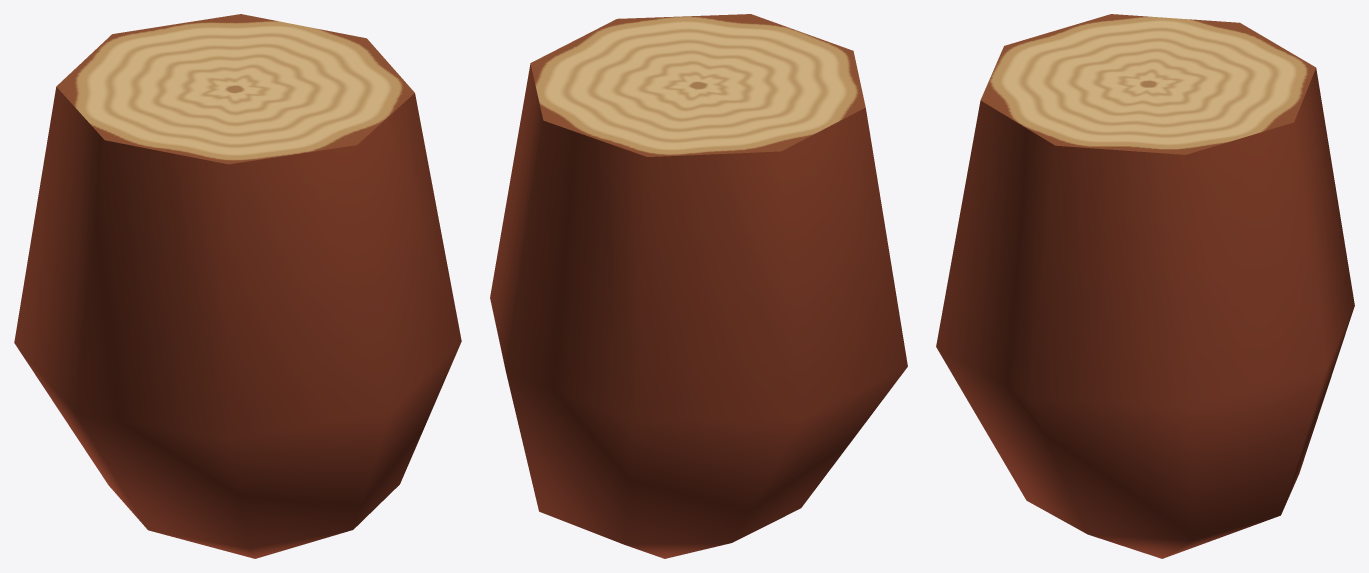
File: tree_2_e_stump.glb
3 renders of one model, left to right at view 1: azimuth 30°, elevation 25°; view 2: azimuth 150°, elevation 25°; view 3: azimuth 270°, elevation 25°, orthographic. The views are drawn at different scales.
Visible parts, largest first — view 1: tree_2_e_stump; view 2: tree_2_e_stump; view 3: tree_2_e_stump.
Boxes of the visible parts, x1,y1,x2,y2 form: tree_2_e_stump: (14, 14, 461, 558); tree_2_e_stump: (490, 14, 907, 558); tree_2_e_stump: (936, 14, 1354, 558).
Bounding box in the file's own units: 0.7231 × 0.8864 × 0.7282.
2 materials, 2 textured.
